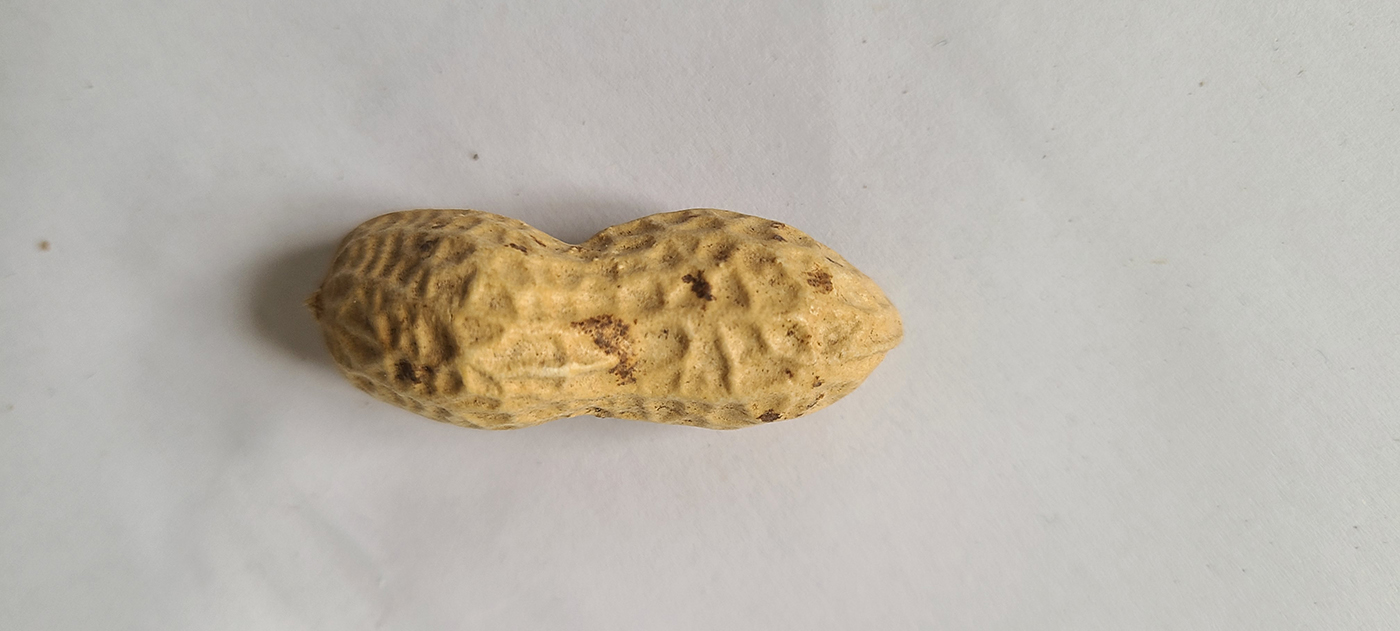h: (310, 205, 906, 433)
